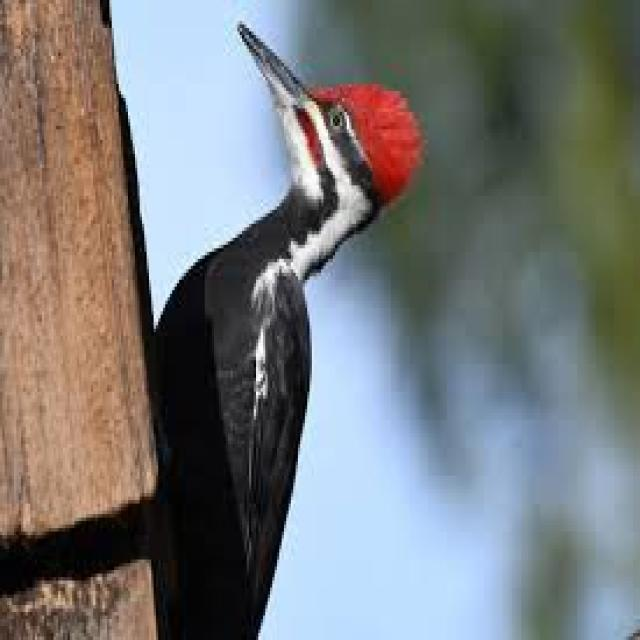Woodpecker: (131, 16, 423, 640)
